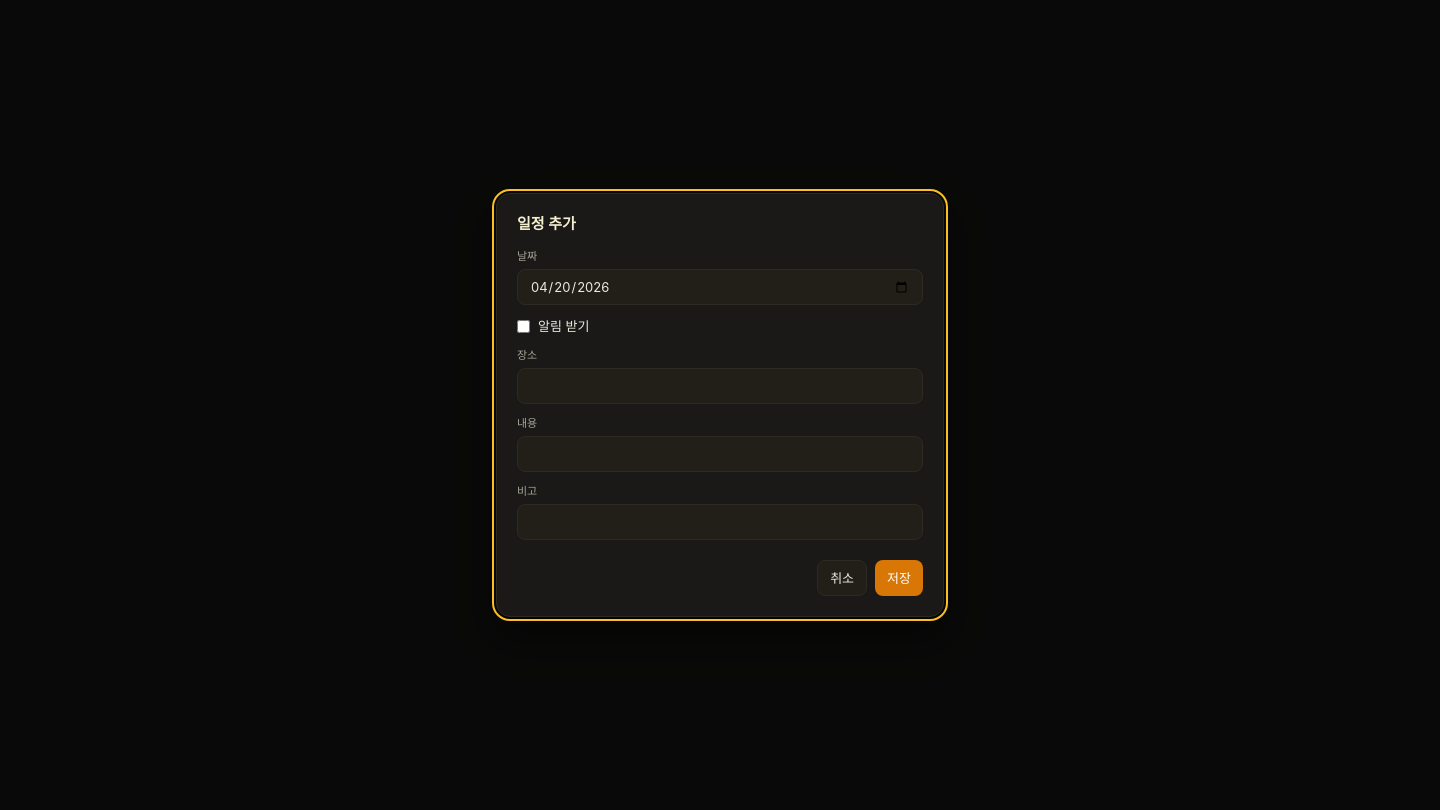
ScheduleModal notify toggle › disables save and shows hint when notify is on but time is cleared
Note: Turn notify on — time auto-populates to 09:00 per Task 12 spec.
Click the checkbox labelled "알림 받기": coordinates (524, 327) x1=517 y1=320 x2=530 y2=333
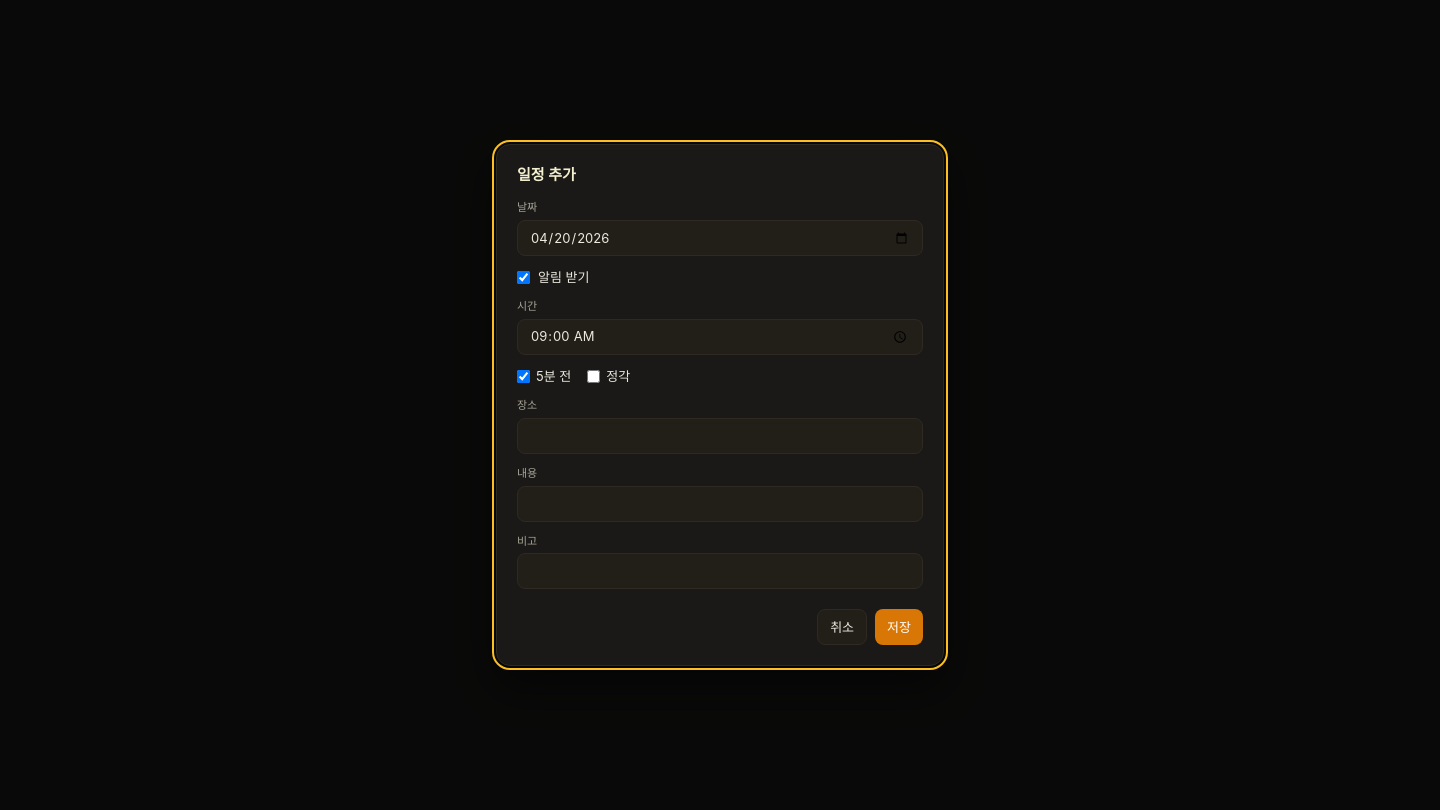
Note: Clear it.
Clear the time field labelled "시간": coordinates (720, 337) x1=517 y1=319 x2=923 y2=355
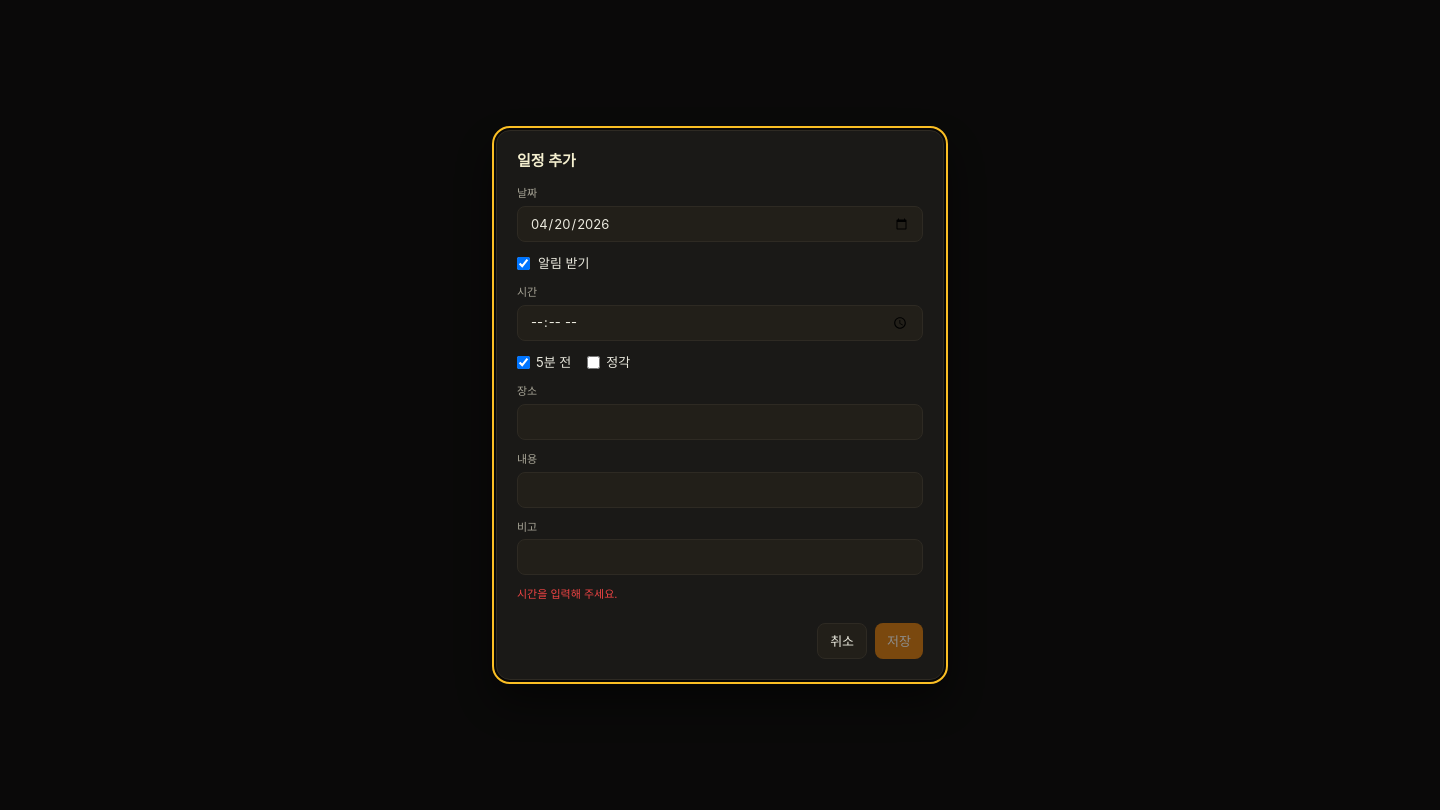
Expected: the button "저장" is disabled, x1=875 y1=623 x2=923 y2=659
Expected: the text "시간을 입력해 주세요." is shown, x1=517 y1=588 x2=617 y2=602
